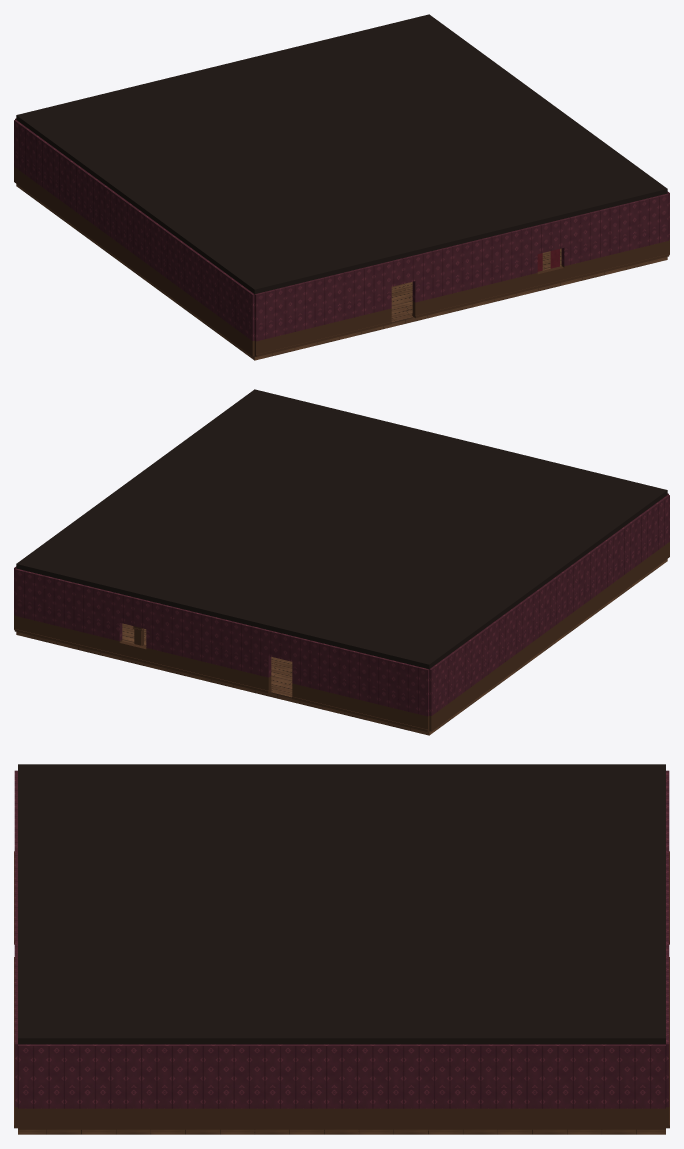
The model's file is sandbox.glb.
3 views of the same model, one above another, from view 1: azimuth 30°, elevation 25°; view 2: azimuth 150°, elevation 25°; view 3: azimuth 270°, elevation 25° (orthographic). The views are drawn at different scales.
Parts seen in each view (by area): view 1: S_0_0, S_m1_0, S_0_m1, S_m1_m1, S_0_m2; view 2: S_0_0, S_0_1, S_m1_0, S_m1_1; view 3: S_0_0, S_1_0, S_0_1, S_0_m1.
Boxes of the visible parts, x1,y1,x2,y2 form: S_0_0: (16,14,667,360); S_m1_0: (14,120,254,356); S_0_m1: (412,193,668,317); S_m1_m1: (254,255,415,356); S_0_m2: (415,254,669,318); S_0_0: (16,389,667,735); S_0_1: (14,568,271,693); S_m1_0: (429,495,669,731); S_m1_1: (268,630,429,731); S_0_0: (18,764,665,1134); S_1_0: (18,1044,665,1129); S_0_1: (666,876,669,1128); S_0_m1: (14,876,17,1128).
Bounding box in the file's own units: 28.3 × 4.59 × 28.36.
Materials: 20 (5 with a texture image).
